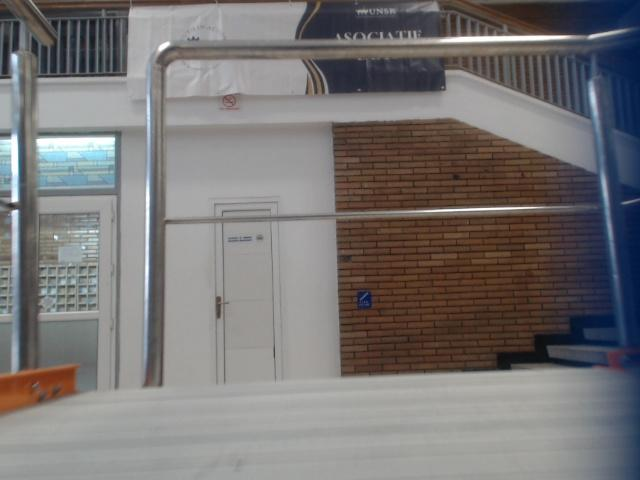rampUp: (0, 365, 639, 479)
ramps-railing: (143, 29, 639, 386), (0, 51, 71, 393), (589, 75, 631, 342), (255, 207, 598, 221), (7, 0, 54, 39)
